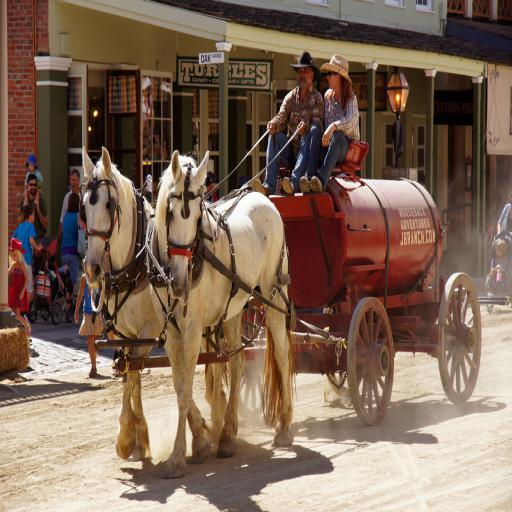Horse: (148, 148, 304, 480), (82, 144, 231, 464)
